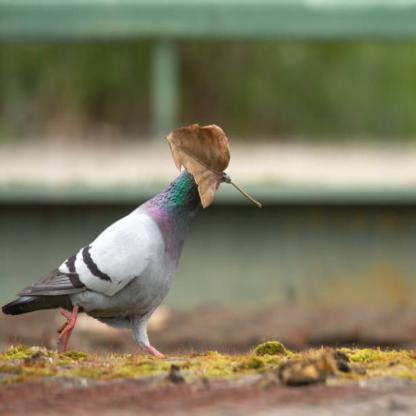Flying Rat: (12, 125, 250, 367)
